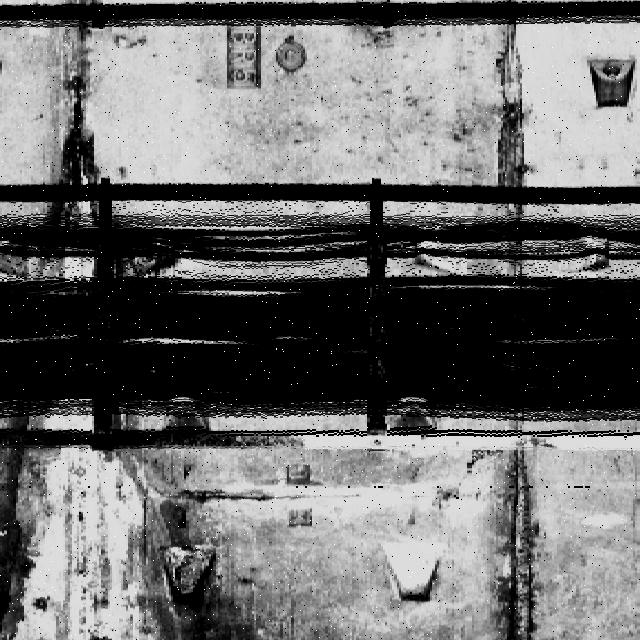leakage: (1, 97, 258, 638)
